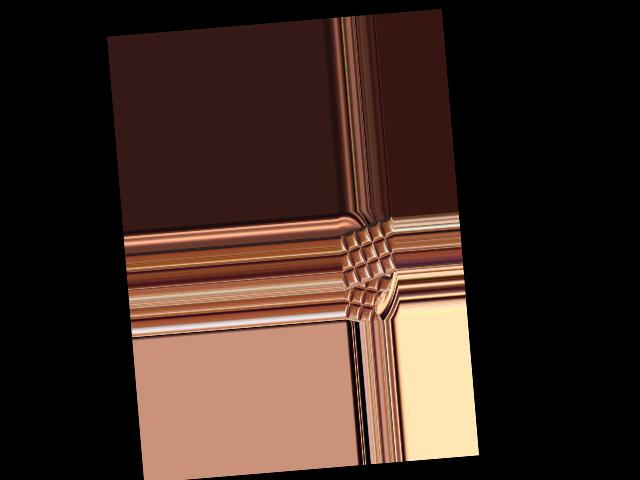chocolate: (336, 215, 397, 291)
